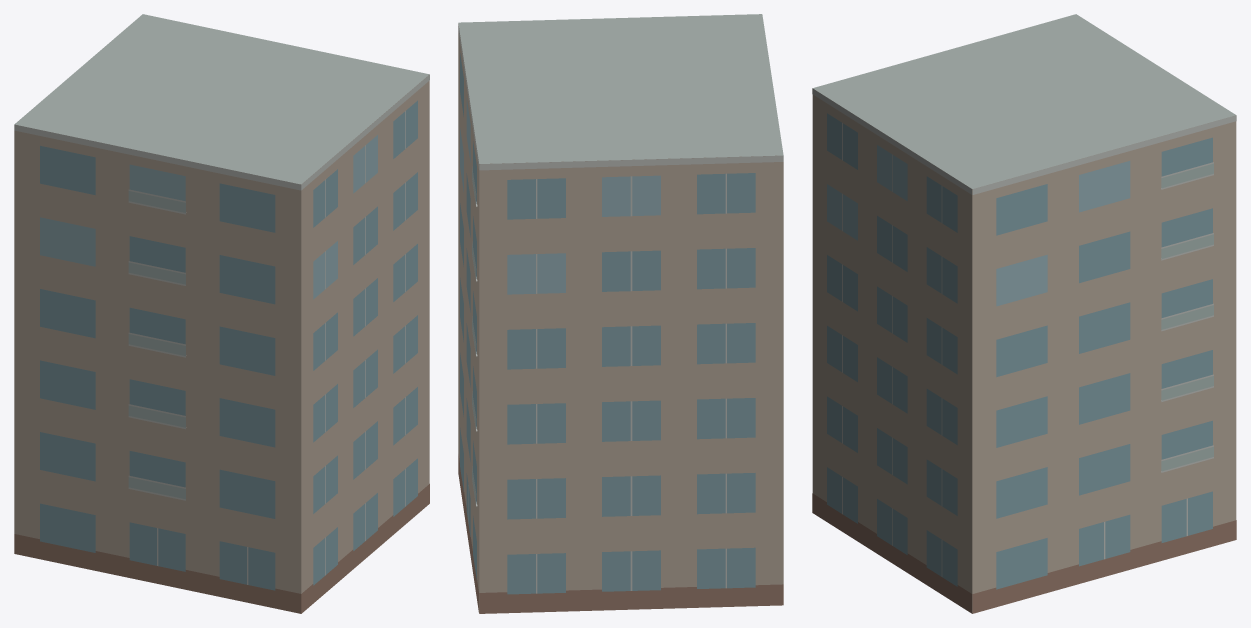
File: survey-upis-33016500.glb
The picture shows the model from 3 angles, left to right: view 1: azimuth 30°, elevation 25°; view 2: azimuth 150°, elevation 25°; view 3: azimuth 270°, elevation 25°; orthographic projection. The views are drawn at different scales.
Parts seen in each view (by area): view 1: survey-upis-33016500.tmp; view 2: survey-upis-33016500.tmp; view 3: survey-upis-33016500.tmp.
Boxes of the visible parts, x1,y1,x2,y2 form: survey-upis-33016500.tmp: (14, 14, 429, 613); survey-upis-33016500.tmp: (458, 14, 783, 613); survey-upis-33016500.tmp: (812, 14, 1236, 613).
Size of the model in its own units: 15.32 by 17.3 by 15.66.
